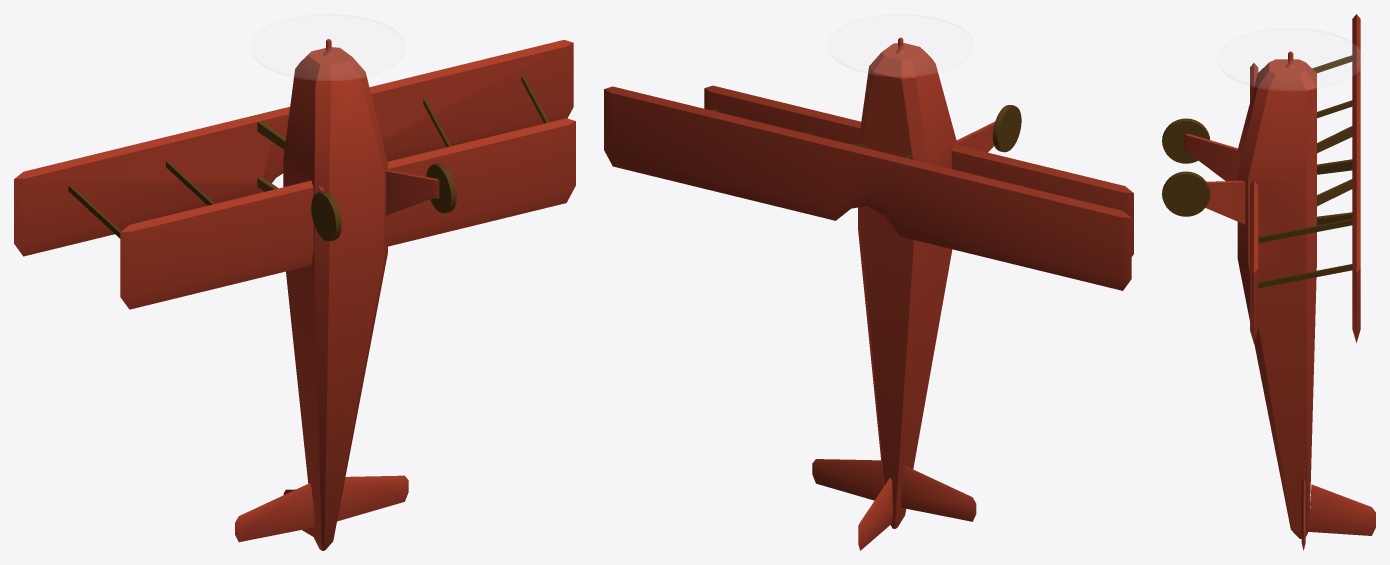
The model's file is ToyPlaneBoyan.fbx.
The picture shows the model from 3 angles, left to right: view 1: azimuth 30°, elevation 25°; view 2: azimuth 150°, elevation 25°; view 3: azimuth 270°, elevation 25°; orthographic projection. The views are drawn at different scales.
Visible parts, largest first — view 1: Toy plane; view 2: Toy plane; view 3: Toy plane.
Boxes of the visible parts, x1,y1,x2,y2 form: Toy plane: [14, 39, 575, 550]; Toy plane: [604, 37, 1133, 550]; Toy plane: [1162, 14, 1375, 550].
Size of the model in its own units: 3.14 by 2.76 by 1.1.
